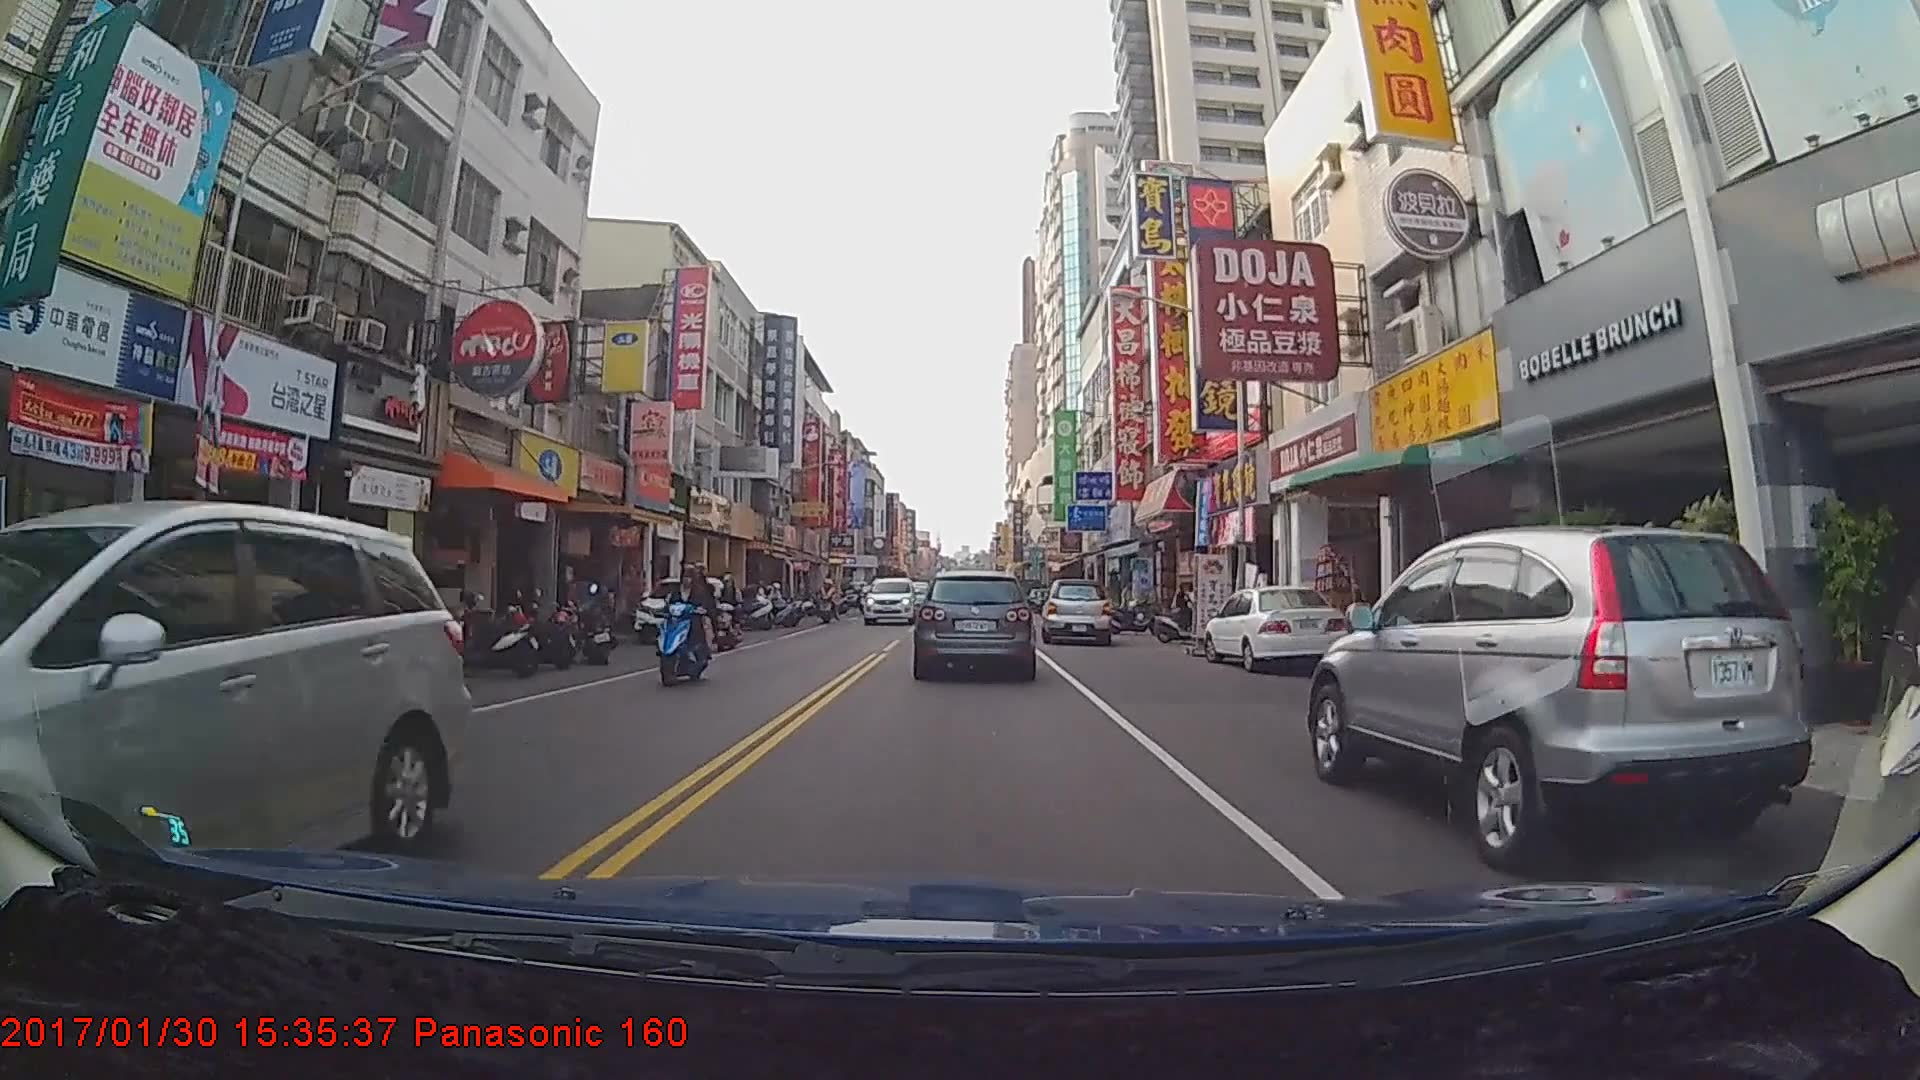rider: (651, 557, 706, 690), (1155, 582, 1212, 645)
vehicle: (0, 499, 474, 973), (1306, 524, 1811, 869), (1199, 583, 1346, 671), (917, 571, 1034, 679), (631, 574, 744, 642), (1041, 577, 1113, 645), (863, 577, 922, 626)
